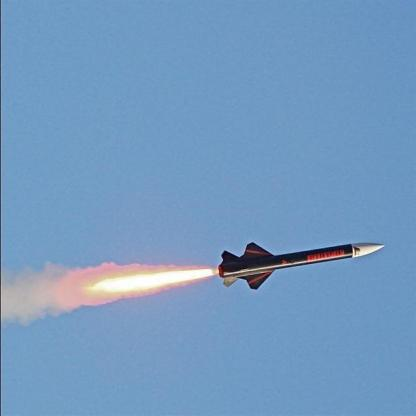MIL_TBM: (215, 236, 389, 287)
